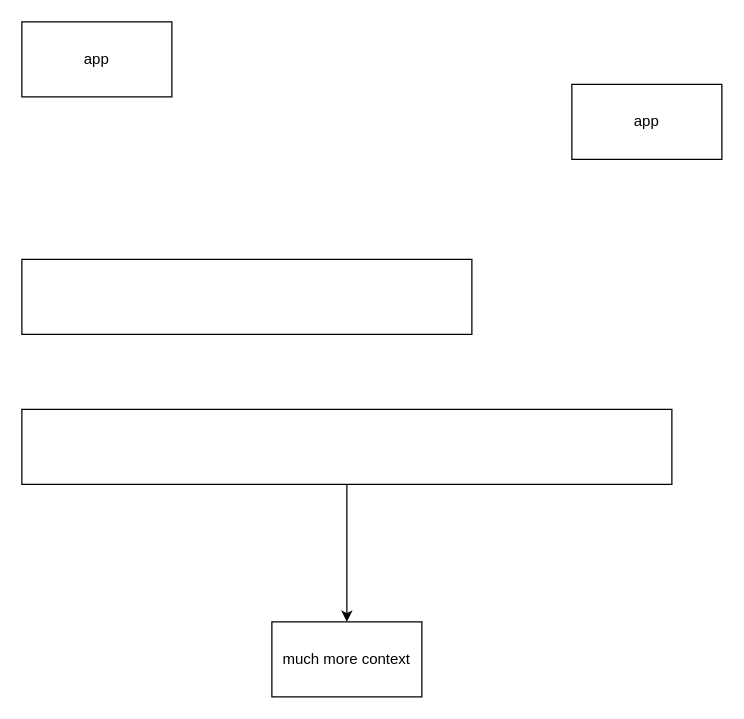
This 744x719 diagram has some shape labels left out. Here are the shapes that lost their labels. From the top down, the centre of each, then its label:
At (x=246, y=296): "API".
At (x=346, y=446): "handler".
